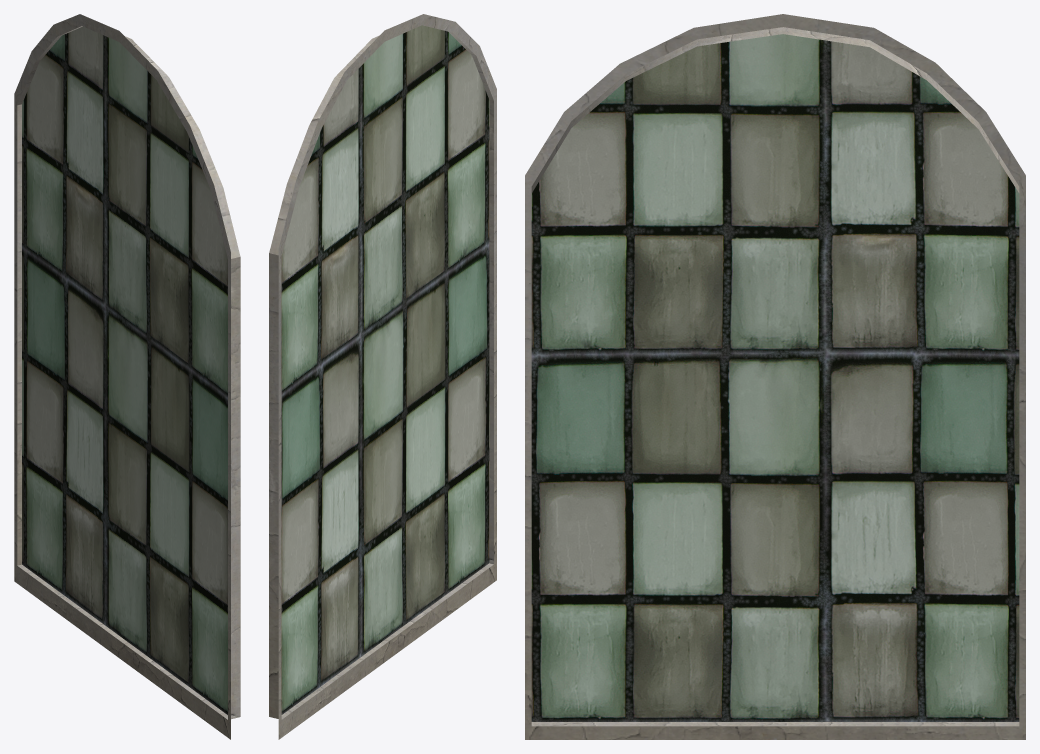
The model's file is Window_Arch.fbx.
The picture shows the model from 3 angles, left to right: view 1: azimuth 30°, elevation 25°; view 2: azimuth 150°, elevation 25°; view 3: azimuth 270°, elevation 25°; orthographic projection. The views are drawn at different scales.
Parts seen in each view (by area): view 1: Window_Arch; view 2: Window_Arch; view 3: Window_Arch.
Part boxes in pixels (left/top/right/bottom): Window_Arch: left=14, top=14, right=240, bottom=739; Window_Arch: left=269, top=14, right=496, bottom=739; Window_Arch: left=525, top=14, right=1025, bottom=739.
Size of the model in its own units: 0.0406 by 1.96 by 1.23.
